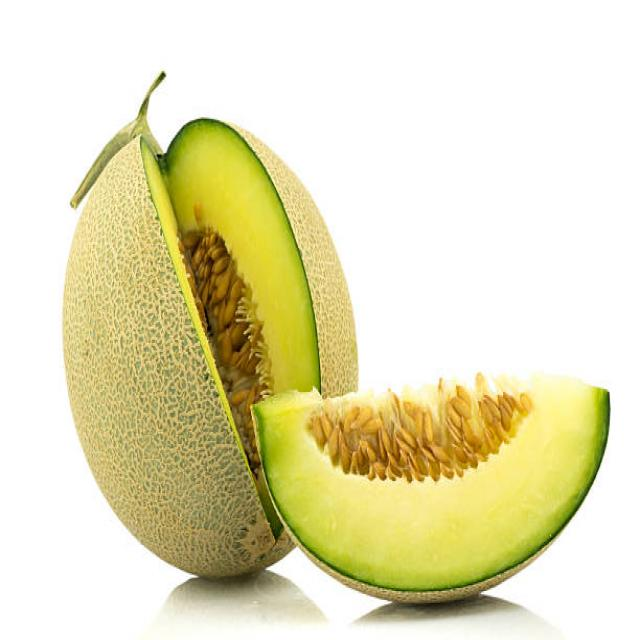Melon: (57, 109, 261, 592), (258, 370, 614, 606), (56, 110, 357, 383)
